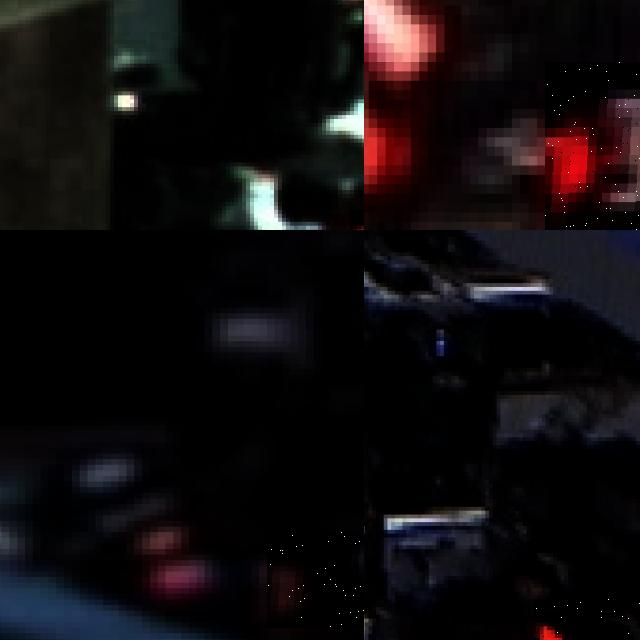R1: (267, 532, 364, 627), (534, 599, 640, 640)
R3: (545, 62, 640, 230)
